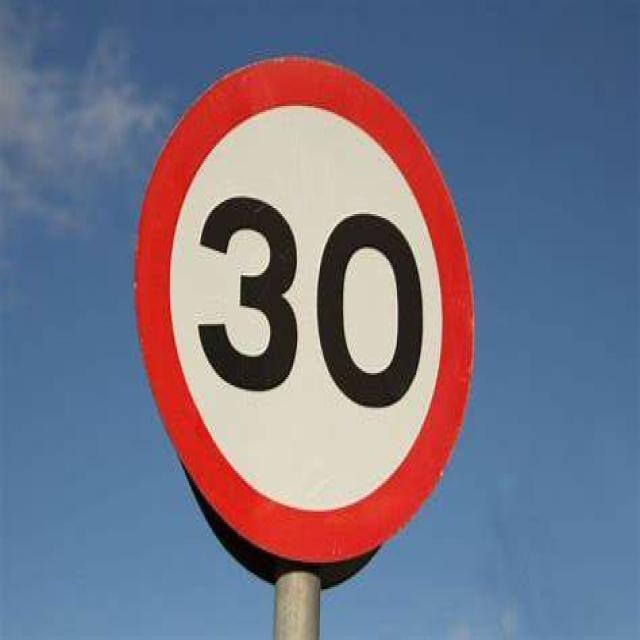speedlimit_30: (137, 56, 476, 565)
